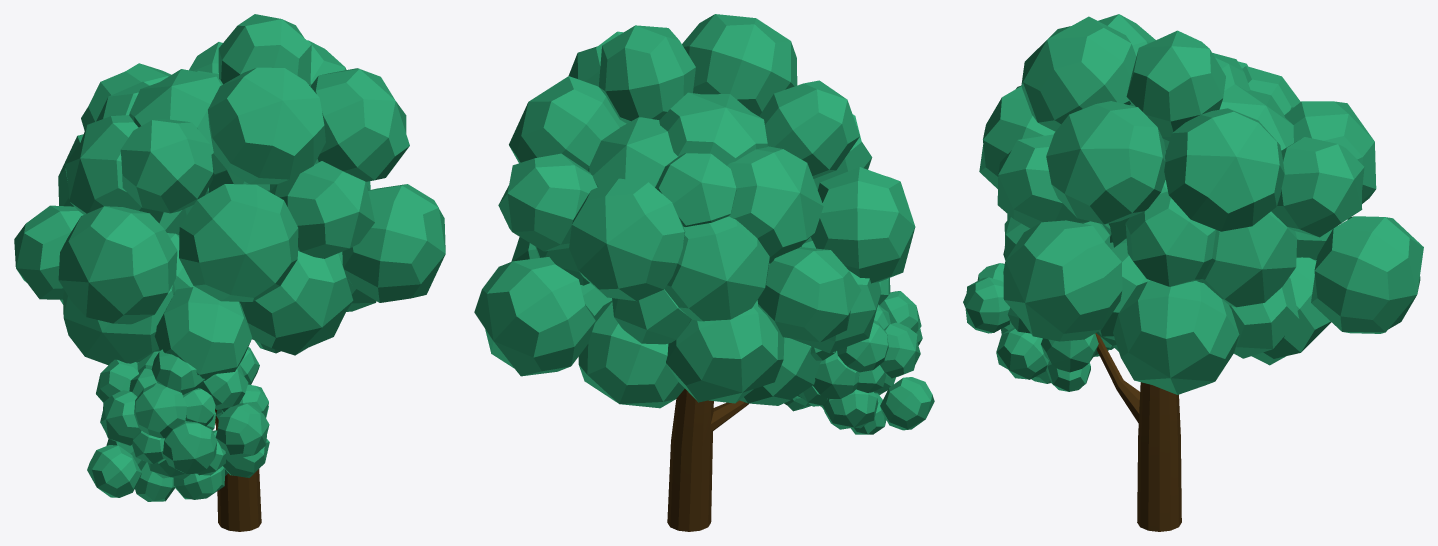
File: ENV_Tree_3.fbx
3 renders of one model, left to right at view 1: azimuth 30°, elevation 25°; view 2: azimuth 150°, elevation 25°; view 3: azimuth 270°, elevation 25°, orthographic. The views are drawn at different scales.
Parts seen in each view (by area): view 1: ENV_Tree_3; view 2: ENV_Tree_3; view 3: ENV_Tree_3.
Part boxes in pixels (<box>): ENV_Tree_3: <box>14,14,445,531</box>; ENV_Tree_3: <box>474,14,934,531</box>; ENV_Tree_3: <box>963,14,1423,531</box>.
Size of the model in its own units: 2.99 by 3.93 by 3.28.
